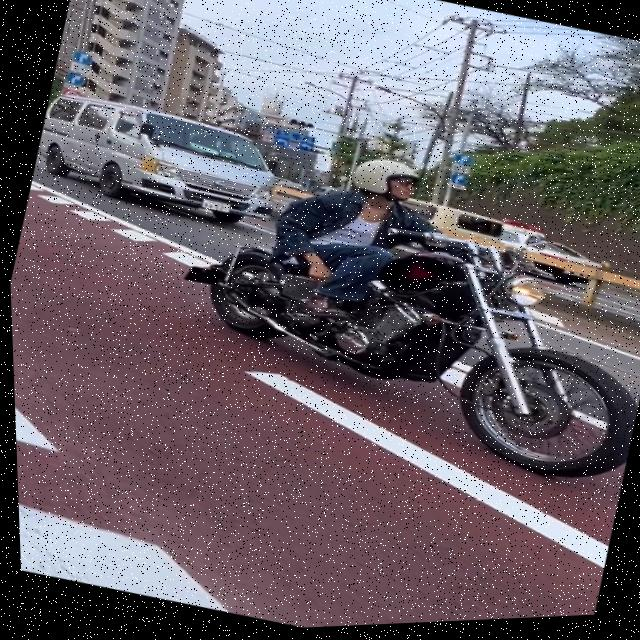helmet: (340, 149, 428, 217)
